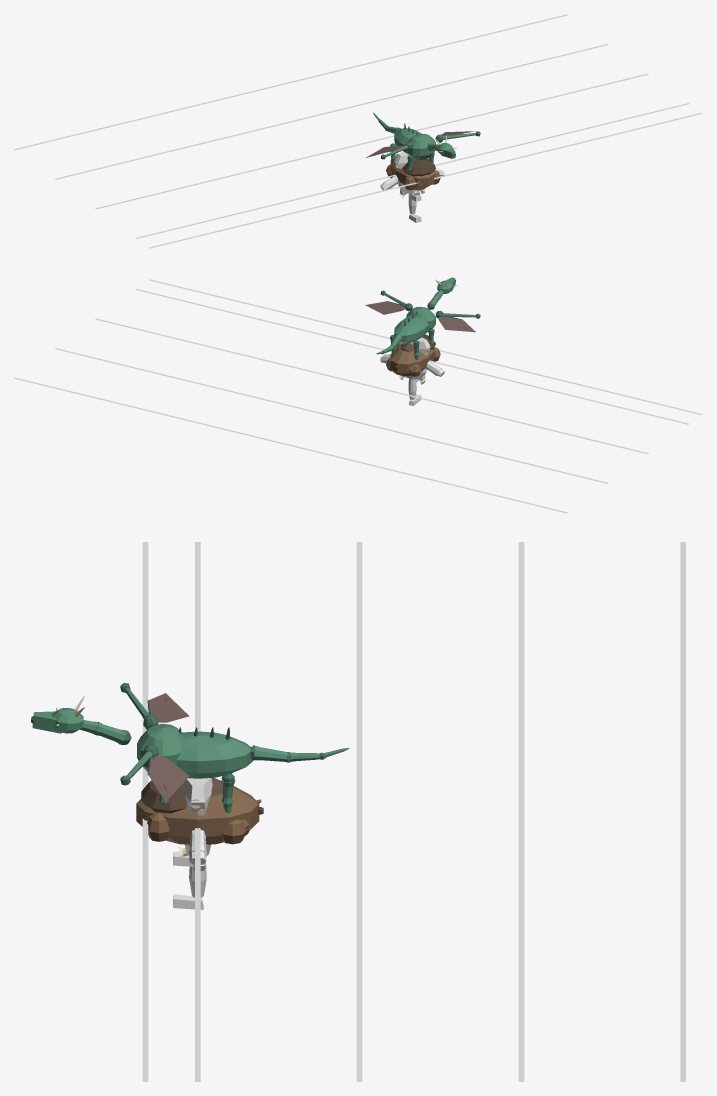
The model's file is dragon_test.glb.
3 renders of one model, top to bottom at view 1: azimuth 30°, elevation 25°; view 2: azimuth 150°, elevation 25°; view 3: azimuth 270°, elevation 25°, orthographic. The views are drawn at different scales.
Visible parts, largest first — view 1: NFLBear_FieldLine_4, NFLBear_FieldLine_5, NFLBear_FieldLine_1, NFLBear_FieldLine_3, NFLBear_FieldLine_2, Dragon_ChestMass, Bear_BigBarrelBody, Bear_ShoulderHump; view 2: NFLBear_FieldLine_4, NFLBear_FieldLine_5, NFLBear_FieldLine_3, NFLBear_FieldLine_2, NFLBear_FieldLine_1, Bear_BigBarrelBody, Dragon_LongBody; view 3: NFLBear_FieldLine_3, NFLBear_FieldLine_4, NFLBear_FieldLine_5, NFLBear_FieldLine_1, Bear_BigBarrelBody, Dragon_LongBody, NFLBear_FieldLine_2, Dragon_ChestMass, Dragon_R_WingMembrane, CutMode_RoundishTorso, Bear_ShoulderHump.
Part boxes in pixels (x1,y1,x2,y2): NFLBear_FieldLine_4: (55, 44, 608, 179); NFLBear_FieldLine_5: (14, 14, 567, 150); NFLBear_FieldLine_1: (149, 112, 702, 248); NFLBear_FieldLine_3: (95, 73, 648, 209); NFLBear_FieldLine_2: (135, 103, 689, 238); Dragon_ChestMass: (406, 133, 435, 159); Bear_BigBarrelBody: (390, 156, 434, 189); Bear_ShoulderHump: (403, 158, 435, 176); NFLBear_FieldLine_4: (55, 348, 608, 483); NFLBear_FieldLine_5: (14, 377, 568, 513); NFLBear_FieldLine_3: (95, 318, 648, 454); NFLBear_FieldLine_2: (135, 289, 689, 424); NFLBear_FieldLine_1: (149, 279, 702, 414); Bear_BigBarrelBody: (390, 345, 434, 373); Dragon_LongBody: (394, 315, 429, 342); NFLBear_FieldLine_3: (356, 542, 362, 1081); NFLBear_FieldLine_4: (518, 542, 524, 1081); NFLBear_FieldLine_5: (680, 542, 685, 1081); NFLBear_FieldLine_1: (142, 542, 148, 1081); Bear_BigBarrelBody: (136, 786, 259, 844); Dragon_LongBody: (176, 731, 253, 778); NFLBear_FieldLine_2: (195, 542, 200, 1081); Dragon_ChestMass: (137, 723, 183, 771); Dragon_R_WingMembrane: (148, 755, 189, 801); CutMode_RoundishTorso: (183, 778, 212, 856); Bear_ShoulderHump: (141, 780, 186, 813).
Bounding box in the file's own units: 15.8 × 2.82 × 8.1.
